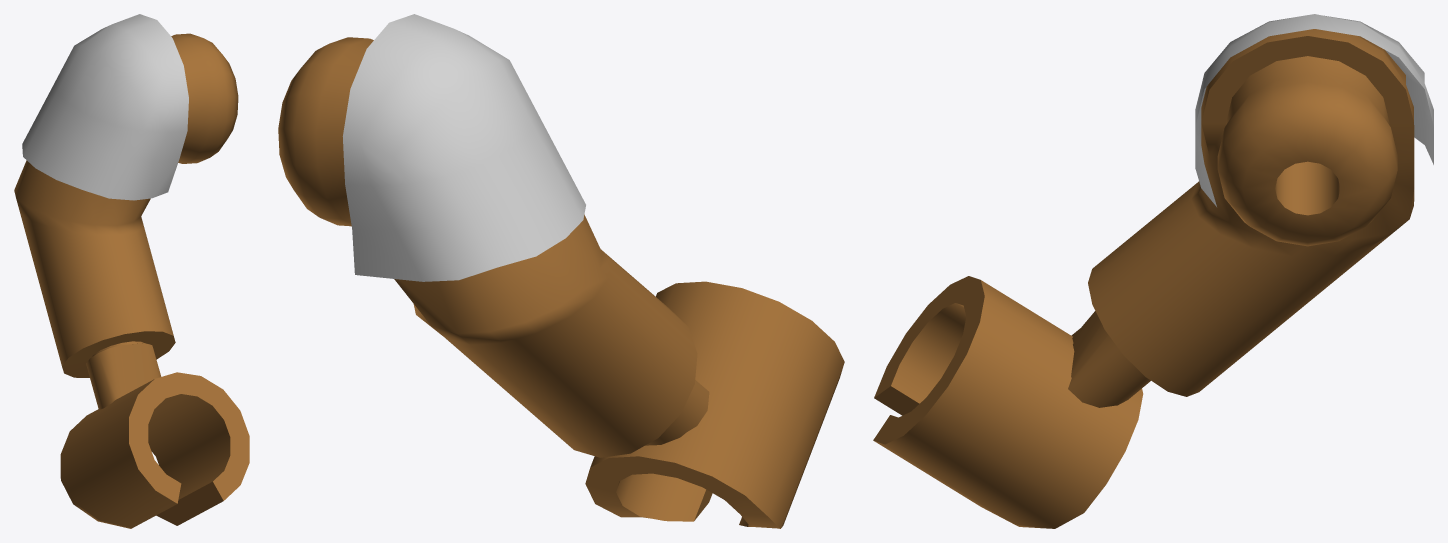
The model's file is rHand.obj.
3 renders of one model, left to right at view 1: azimuth 30°, elevation 25°; view 2: azimuth 150°, elevation 25°; view 3: azimuth 270°, elevation 25°, orthographic. The views are drawn at different scales.
Visible parts, largest first — view 1: rHand1:pasted__pasted__rhandgroup group; view 2: rHand1:pasted__pasted__rhandgroup group; view 3: rHand1:pasted__pasted__rhandgroup group.
Boxes of the visible parts, <box> form: rHand1:pasted__pasted__rhandgroup group: <box>14,14,249,528</box>; rHand1:pasted__pasted__rhandgroup group: <box>278,14,844,528</box>; rHand1:pasted__pasted__rhandgroup group: <box>873,14,1433,528</box>.
Size of the model in its own units: 1.44 by 2.28 by 2.1.
